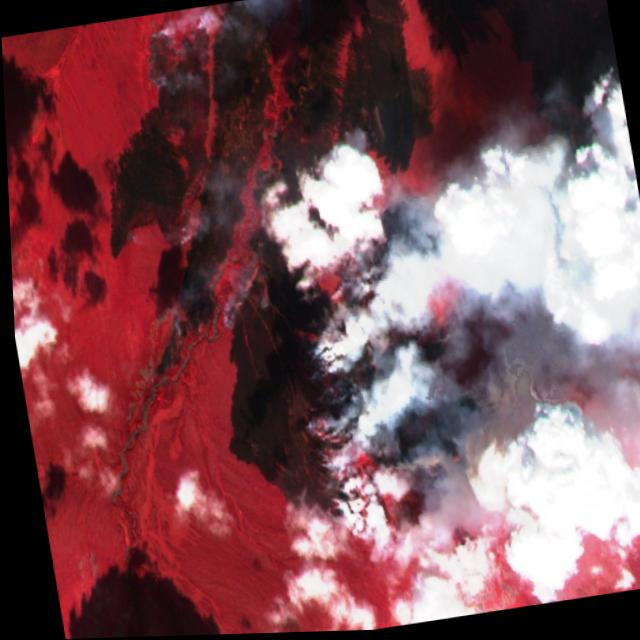fire: (273, 176, 535, 557), (129, 13, 226, 96)
